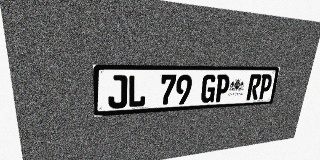7: (159, 75, 177, 106)
9: (175, 75, 193, 105)
G: (200, 74, 217, 103)
J: (108, 75, 127, 109)
L: (128, 75, 146, 108)
P: (214, 74, 231, 102), (258, 74, 273, 99)
R: (246, 74, 262, 100)
